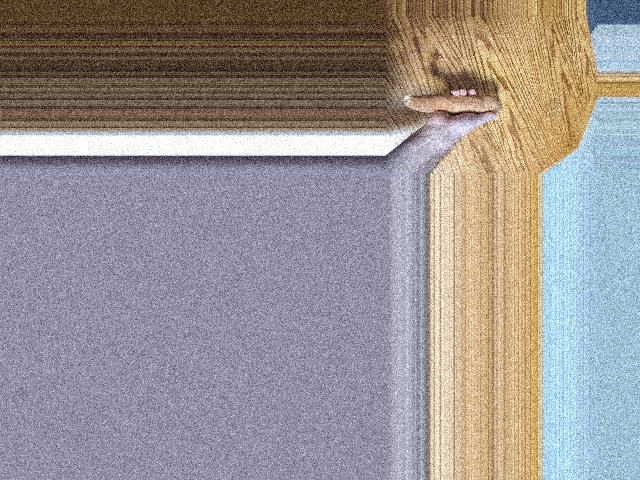sweet_potato: (401, 93, 502, 123)
